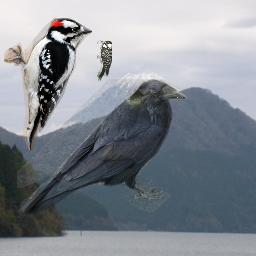Crow: (17, 79, 189, 218)
Woodpecker: (4, 18, 92, 151), (97, 40, 112, 81)
